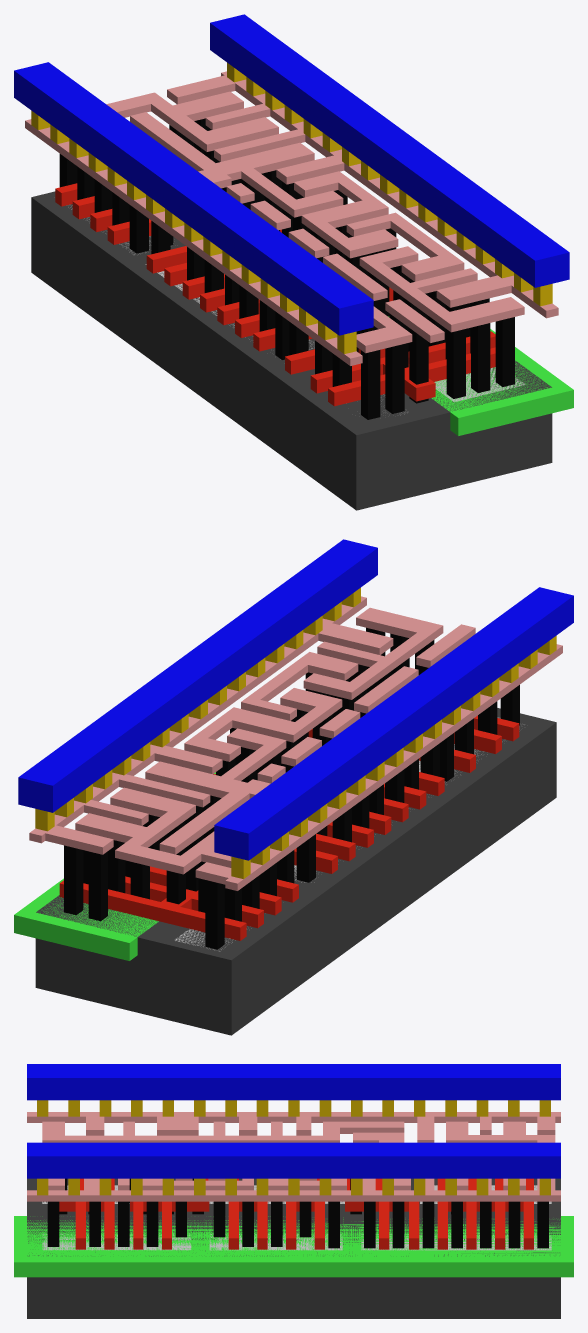
File: sky130_fd_sc_hd__o41a_4.obj
3 views of the same model, one above another, from view 1: azimuth 30°, elevation 25°; view 2: azimuth 150°, elevation 25°; view 3: azimuth 270°, elevation 25° (orthographic). The views are drawn at different scales.
Visible parts, largest first — view 1: subs, metal1, li, licon, poly, mcon, nwell, tap; view 2: subs, metal1, li, licon, poly, mcon, nwell; view 3: metal1, subs, nwell, li, licon, poly, mcon, tap.
Boxes of the visible parts, x1=… form: subs: x1=31, y1=191, x2=552, y2=510; metal1: x1=14, y1=14, x2=569, y2=335; li: x1=25, y1=71, x2=558, y2=365; licon: x1=59, y1=118, x2=514, y2=419; poly: x1=55, y1=183, x2=495, y2=406; mcon: x1=31, y1=62, x2=552, y2=353; nwell: x1=388, y1=316, x2=573, y2=435; tap: x1=434, y1=367, x2=525, y2=402; subs: x1=35, y1=708, x2=556, y2=1035; metal1: x1=18, y1=539, x2=573, y2=860; li: x1=29, y1=596, x2=562, y2=890; licon: x1=64, y1=627, x2=519, y2=949; poly: x1=59, y1=715, x2=519, y2=940; mcon: x1=35, y1=587, x2=556, y2=878; nwell: x1=14, y1=772, x2=215, y2=960; metal1: x1=27, y1=1064, x2=560, y2=1178; subs: x1=27, y1=1178, x2=560, y2=1318; nwell: x1=14, y1=1216, x2=573, y2=1277; li: x1=27, y1=1112, x2=560, y2=1201; licon: x1=47, y1=1178, x2=548, y2=1248; poly: x1=59, y1=1178, x2=533, y2=1249; mcon: x1=37, y1=1100, x2=550, y2=1195; tap: x1=42, y1=1231, x2=551, y2=1250.
Bounding box in the file's own units: 3.2 × 2.74 × 8.2.
